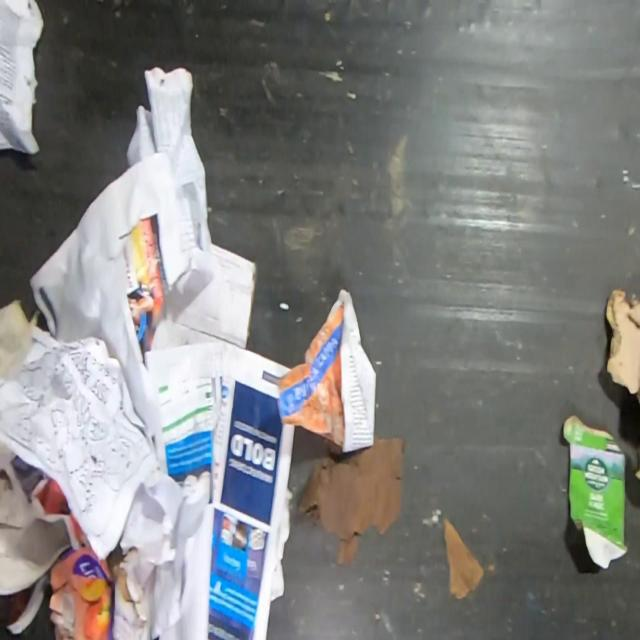cardboard: (562, 412, 629, 569), (47, 544, 116, 640), (604, 286, 640, 406), (441, 512, 485, 602)
